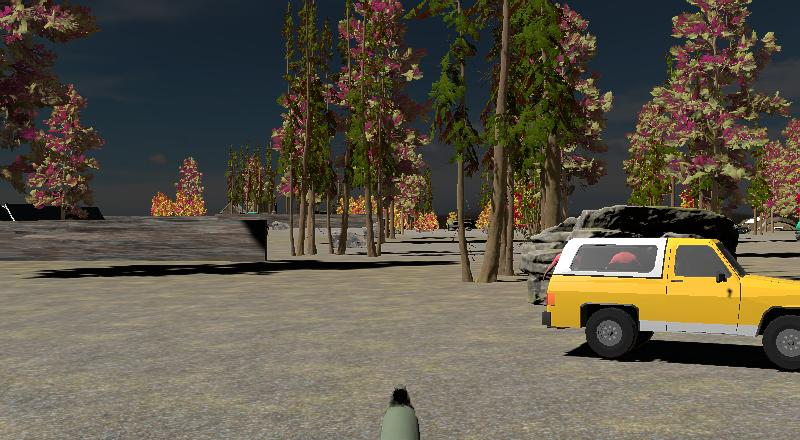car: (538, 235, 800, 366)
